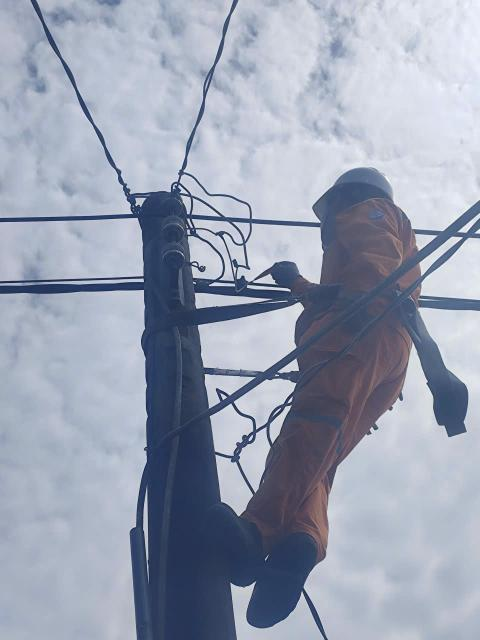gloves: (263, 250, 303, 291)
harness: (276, 277, 429, 332)
helmet: (296, 152, 414, 228)
shoes: (234, 526, 329, 635), (207, 488, 267, 582)
